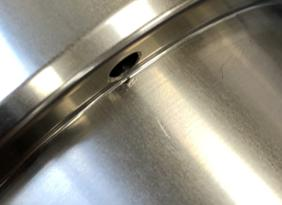damage: (152, 115, 178, 144), (217, 55, 231, 85)
